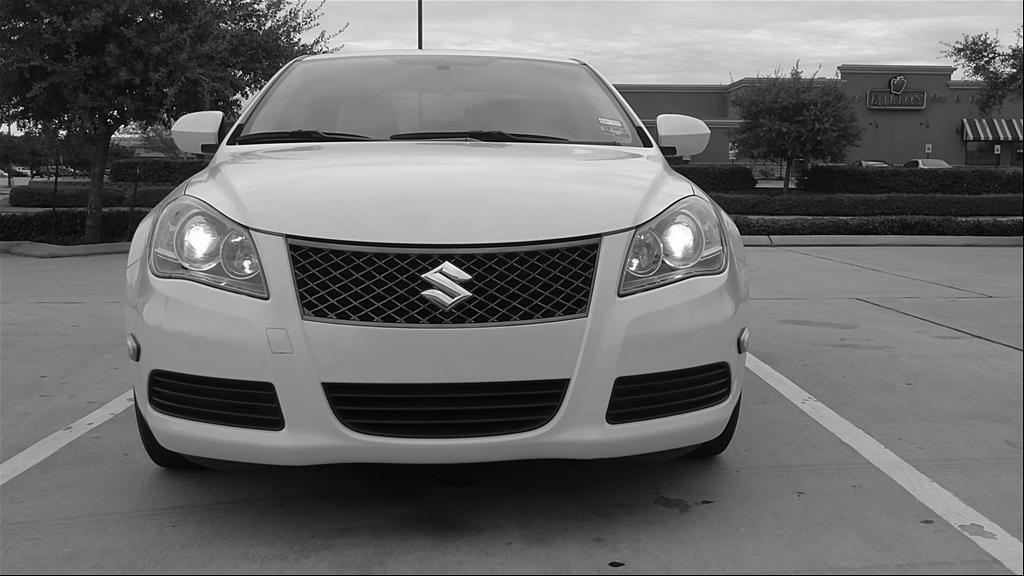car: (118, 49, 759, 484)
